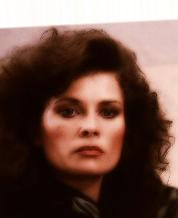face: (56, 96, 120, 159)
